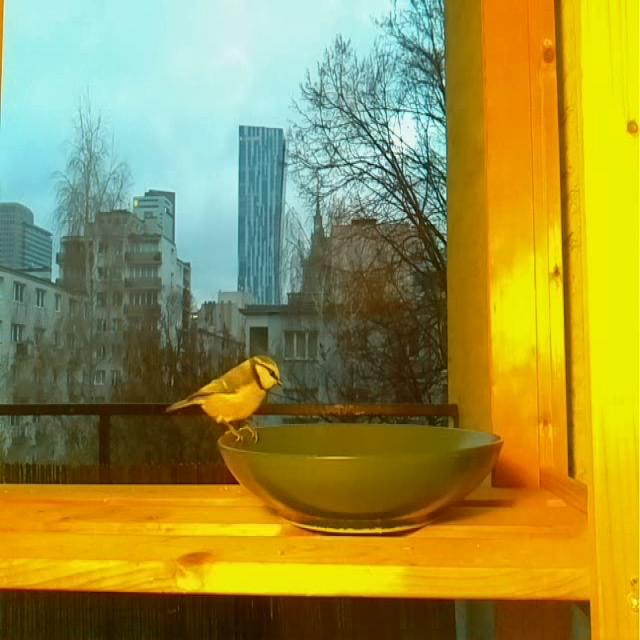Modraszka: (162, 349, 285, 448)
